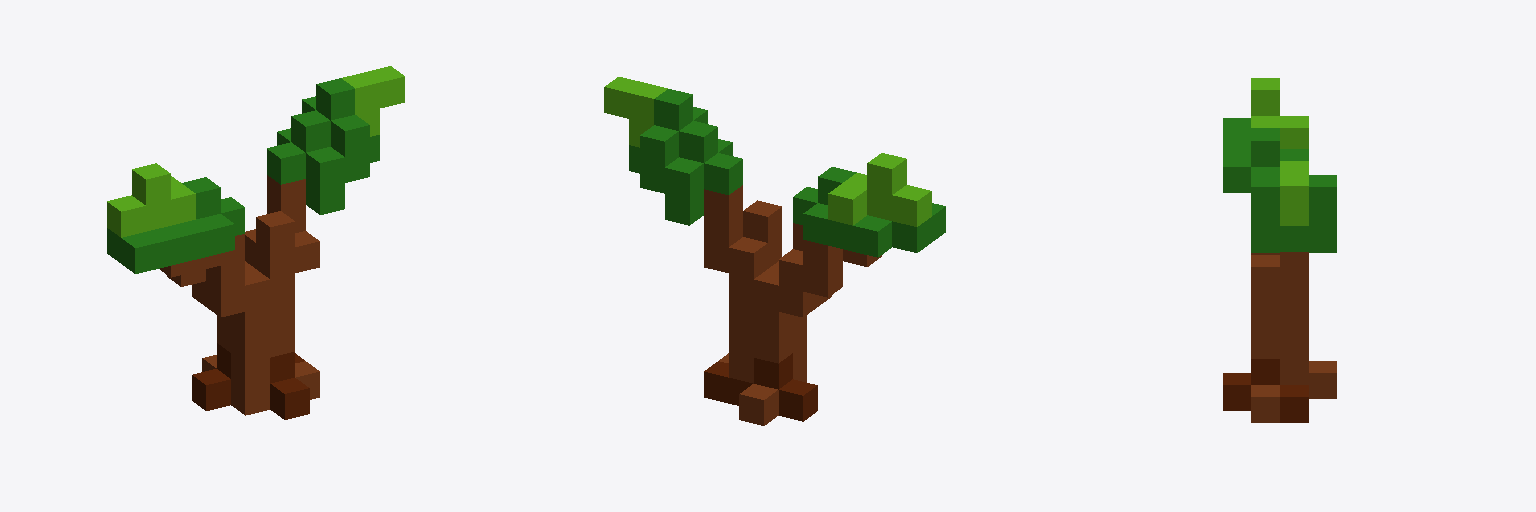
The picture shows the model from 3 angles: view 1: azimuth 30°, elevation 25°; view 2: azimuth 150°, elevation 25°; view 3: azimuth 270°, elevation 25°; orthographic projection.
Parts seen in each view (by area): view 1: object 1; view 2: object 1; view 3: object 1.
Boxes of the visible parts, x1=… form: object 1: x1=107, y1=66, x2=404, y2=419; object 1: x1=604, y1=77, x2=945, y2=425; object 1: x1=1223, y1=78, x2=1336, y2=422.
Bounding box in the file's own units: 1.2 × 1.1 × 0.4.
Materials: 1 (1 with a texture image).